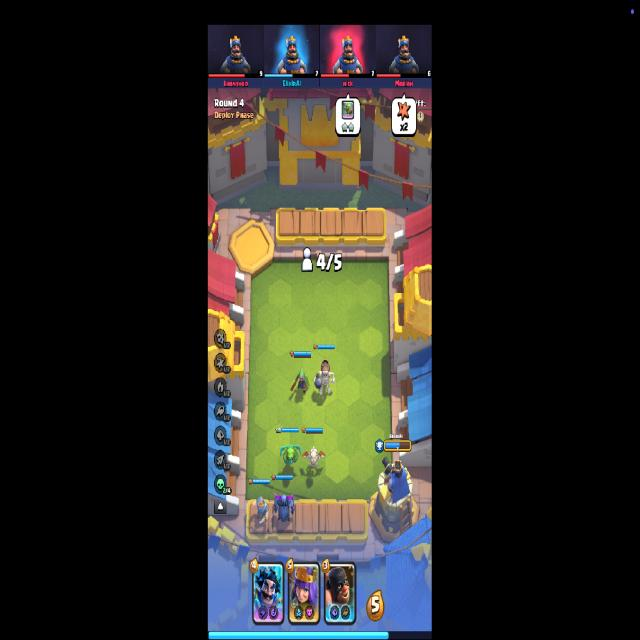baby_dragon: (280, 443, 301, 470)
bandit: (290, 367, 311, 398)
card_archer_queen: (288, 560, 320, 626)
card_e_wiz: (251, 561, 285, 625)
card_executioner: (323, 559, 356, 626)
giant_skeleton: (314, 360, 335, 396)
knight: (249, 496, 269, 524)
pekka: (272, 492, 295, 525)
skeleton_dragon: (302, 446, 326, 473)
